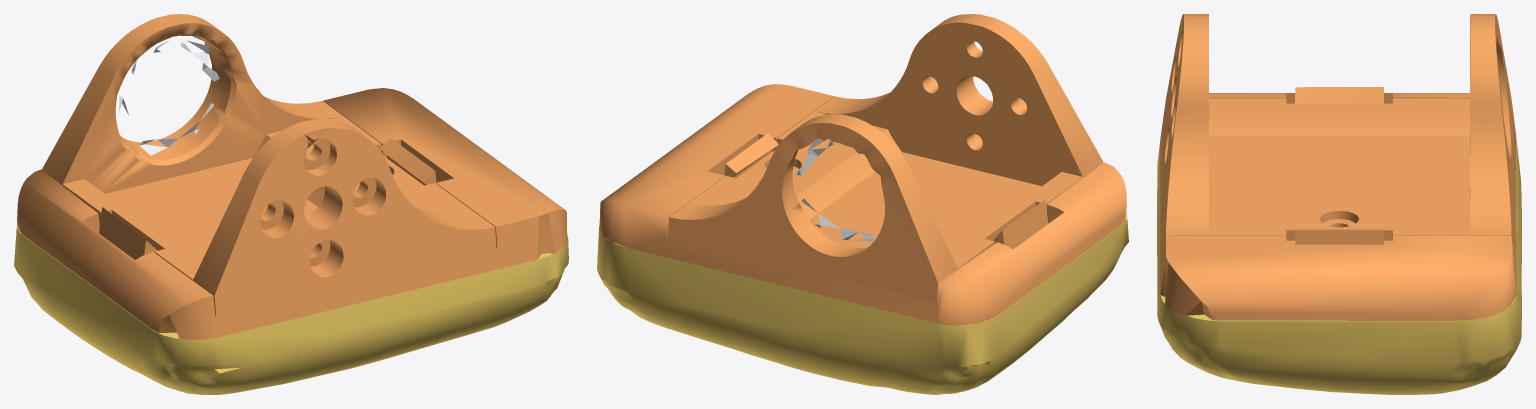
Rendered from ankle_right.glb.
The picture shows the model from 3 angles, left to right: view 1: azimuth 30°, elevation 25°; view 2: azimuth 150°, elevation 25°; view 3: azimuth 270°, elevation 25°; orthographic projection. The views are drawn at different scales.
Parts seen in each view (by area): view 1: ankle_right_body_2, ankle_right_body_1, ankle_right_body_0; view 2: ankle_right_body_2, ankle_right_body_1, ankle_right_body_0; view 3: ankle_right_body_2, ankle_right_body_1.
Part boxes in pixels (left/top/right/bottom): ankle_right_body_2: left=17, top=14, right=567, bottom=339; ankle_right_body_1: left=14, top=226, right=568, bottom=394; ankle_right_body_0: left=119, top=40, right=219, bottom=155; ankle_right_body_2: left=599, top=14, right=1126, bottom=325; ankle_right_body_1: left=597, top=212, right=1128, bottom=394; ankle_right_body_0: left=796, top=138, right=873, bottom=241; ankle_right_body_2: left=1160, top=14, right=1516, bottom=320; ankle_right_body_1: left=1157, top=138, right=1521, bottom=394.
Size of the model in its own units: 0.054 by 0.0342 by 0.0411.
